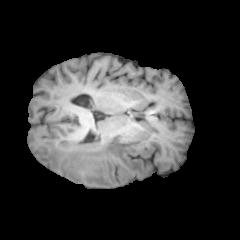glioma: (40, 135, 143, 186)
